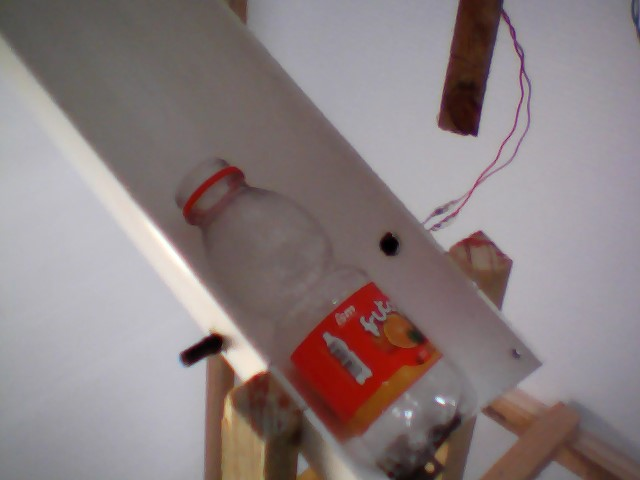plastico: (164, 152, 492, 480)
